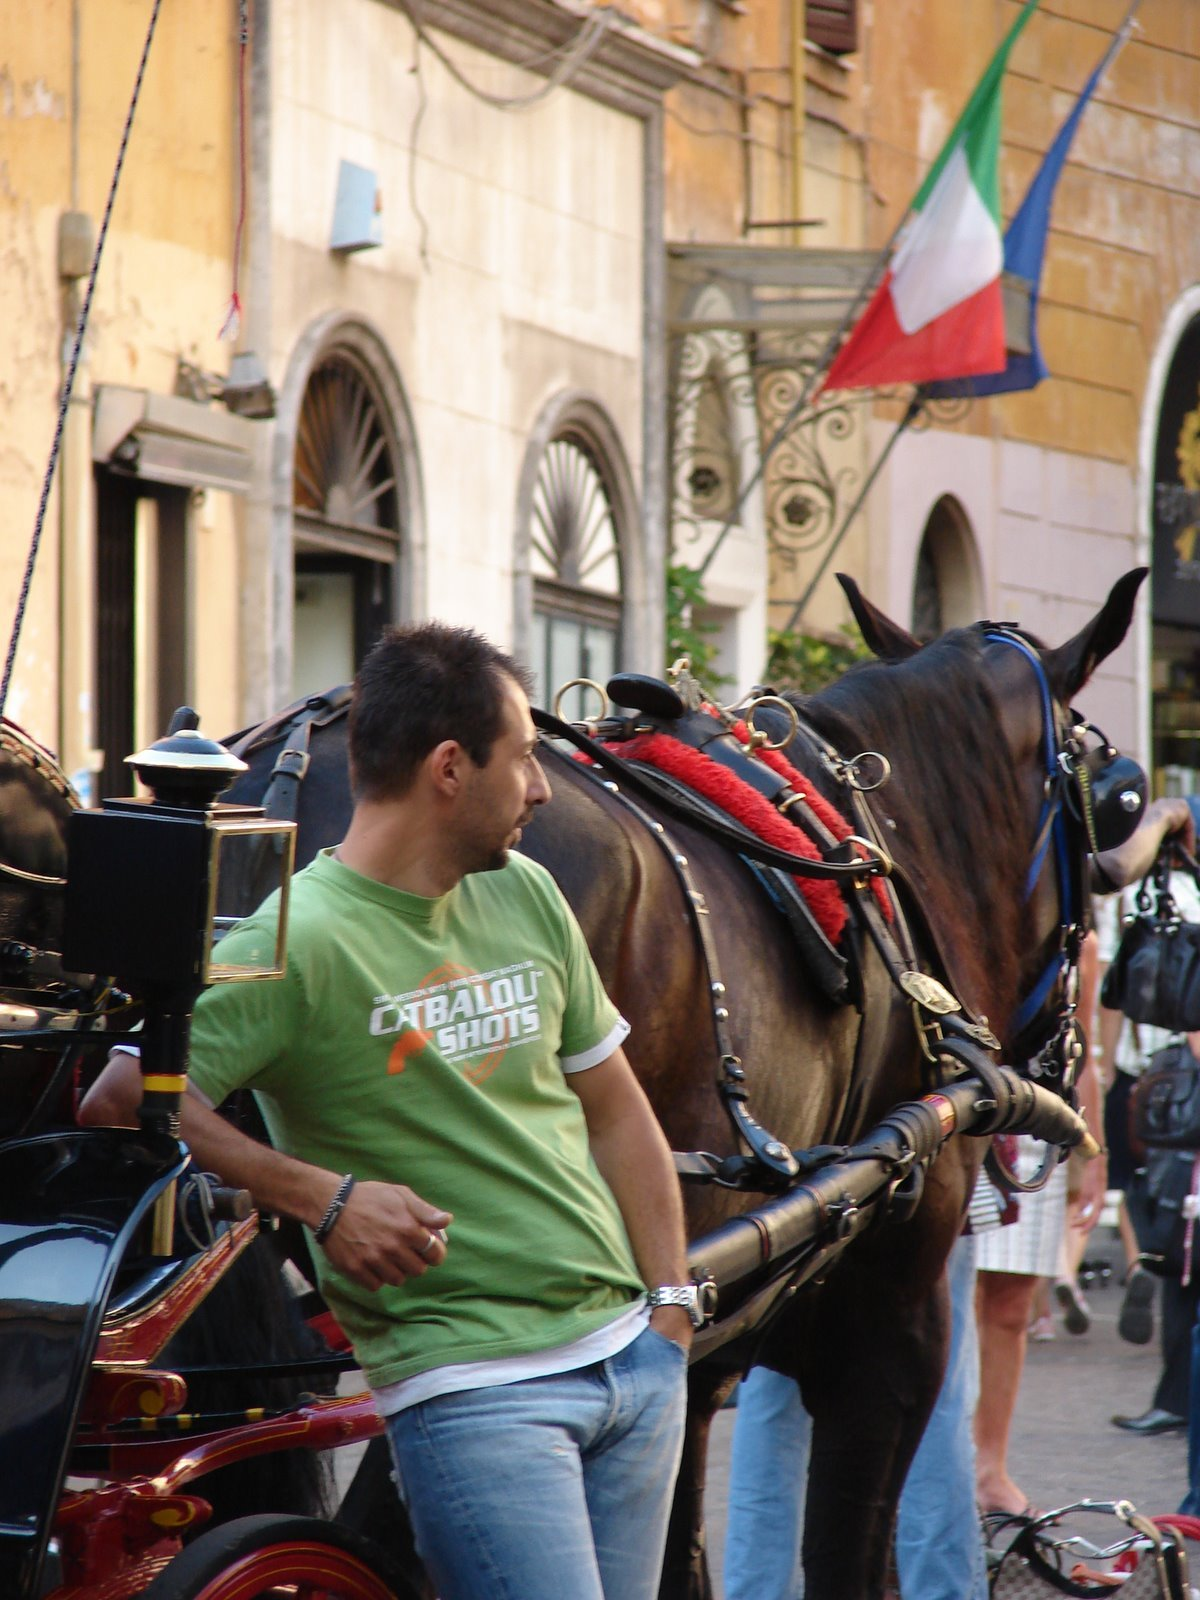horse: (192, 559, 1150, 1600)
